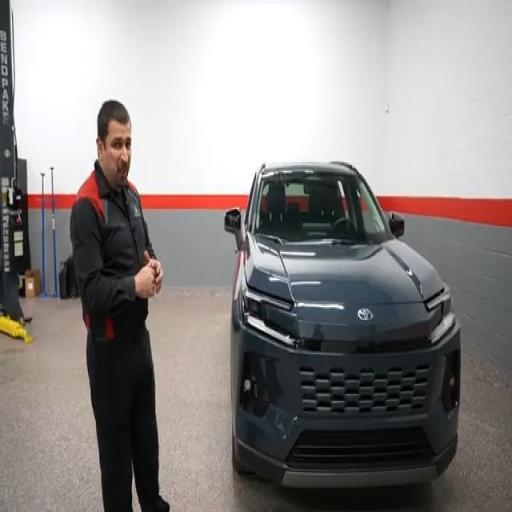bumper: (232, 325, 460, 487)
emblem: (358, 309, 373, 321)
grille: (300, 365, 429, 413), (288, 429, 432, 470)
headlight: (241, 279, 295, 347), (426, 286, 455, 344)
hood: (246, 238, 443, 305)
side_mirror: (224, 208, 241, 248), (388, 212, 404, 237)
wheel: (232, 433, 251, 475)
windshield: (254, 173, 389, 243)
